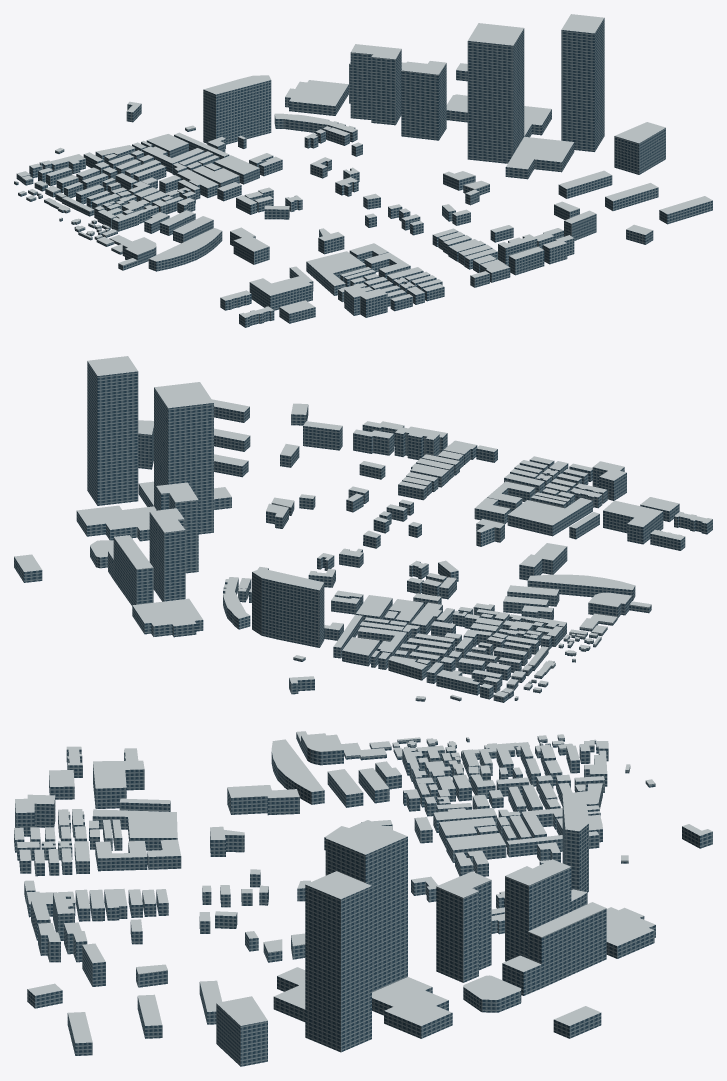
3 renders of one model, top to bottom at view 1: azimuth 30°, elevation 25°; view 2: azimuth 150°, elevation 25°; view 3: azimuth 270°, elevation 25°, orthographic. The views are drawn at different scales.
Bounding box in the file's own units: 664 × 144 × 596.
2 materials, 1 textured.
